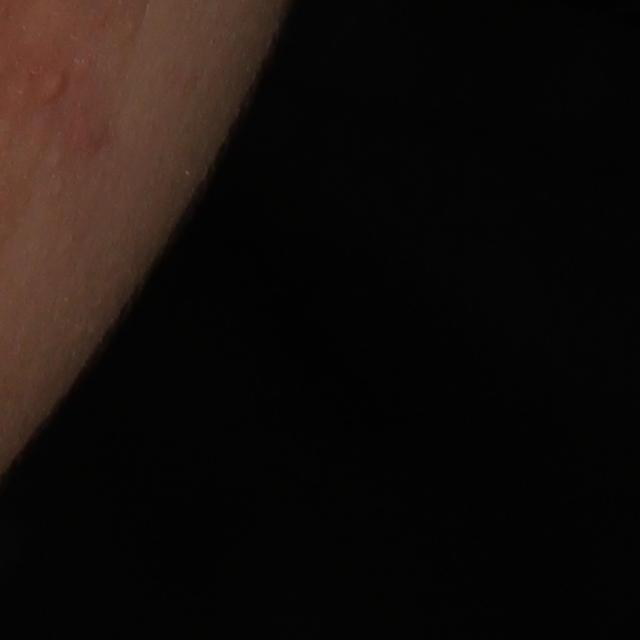papule: (39, 67, 71, 104)
